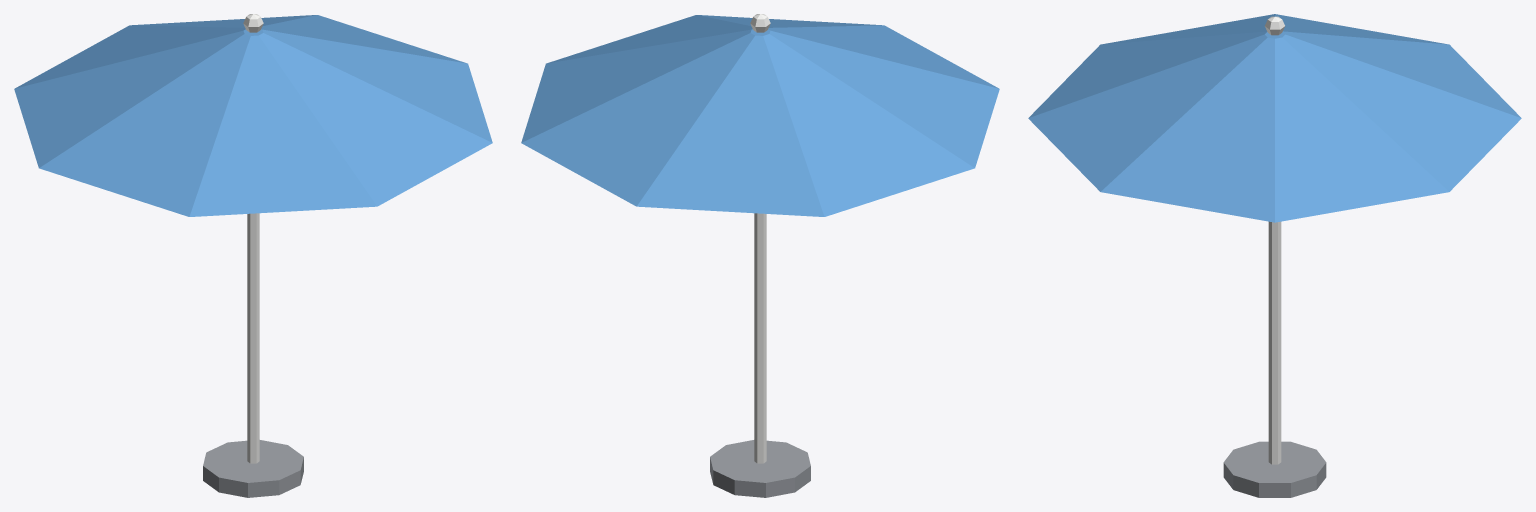
File: CR_Sombrilla.fbx
3 views of the same model, side by side, from view 1: azimuth 30°, elevation 25°; view 2: azimuth 150°, elevation 25°; view 3: azimuth 270°, elevation 25° (orthographic).
Parts seen in each view (by area): view 1: CR_Sombrilla; view 2: CR_Sombrilla; view 3: CR_Sombrilla.
Boxes of the visible parts, x1,y1,x2,y2 form: CR_Sombrilla: (14,14,492,497); CR_Sombrilla: (521,14,999,497); CR_Sombrilla: (1028,14,1521,497).
Size of the model in its own units: 2.4 by 2.47 by 2.4.
